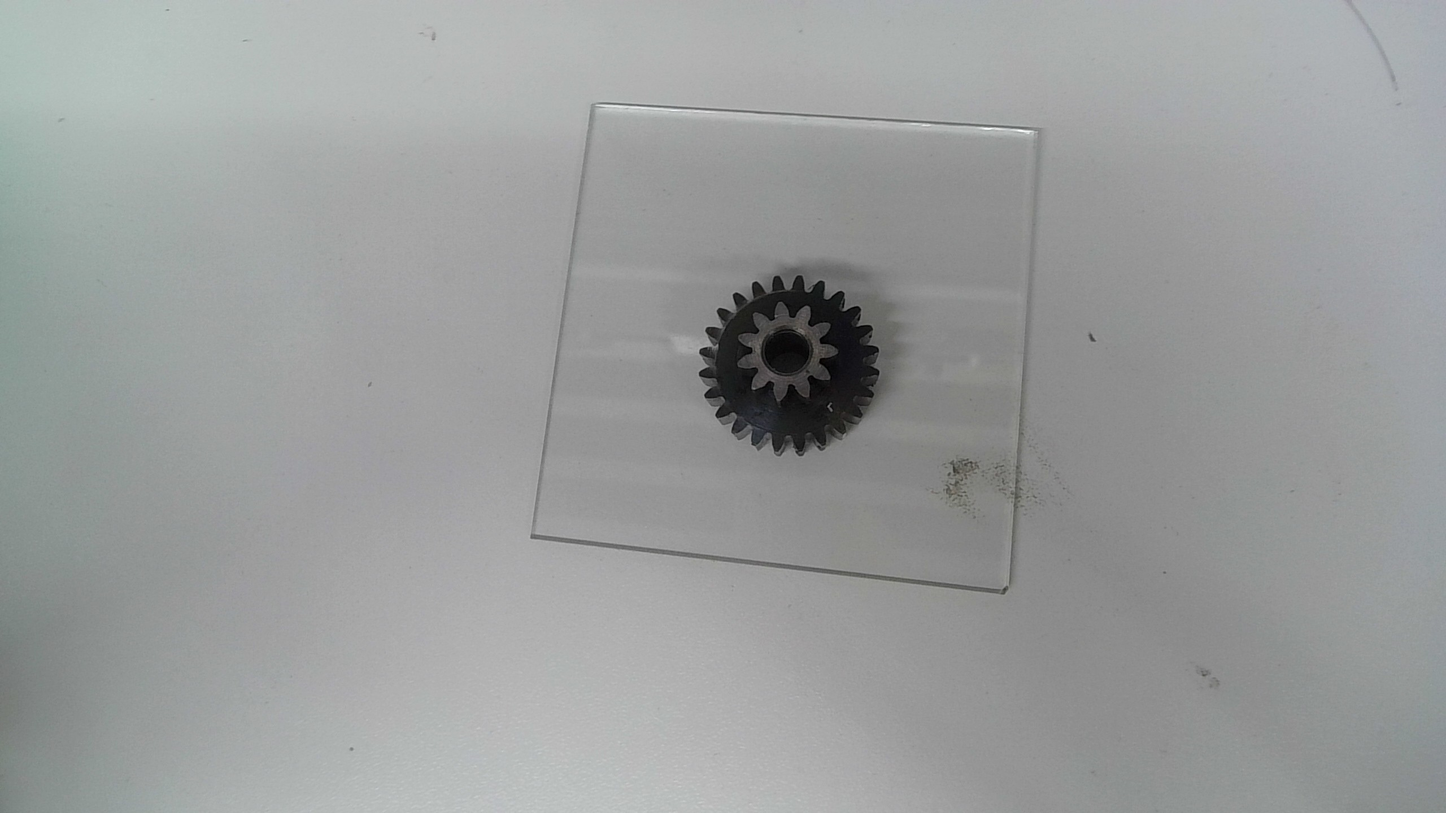gear: (695, 272, 881, 460)
